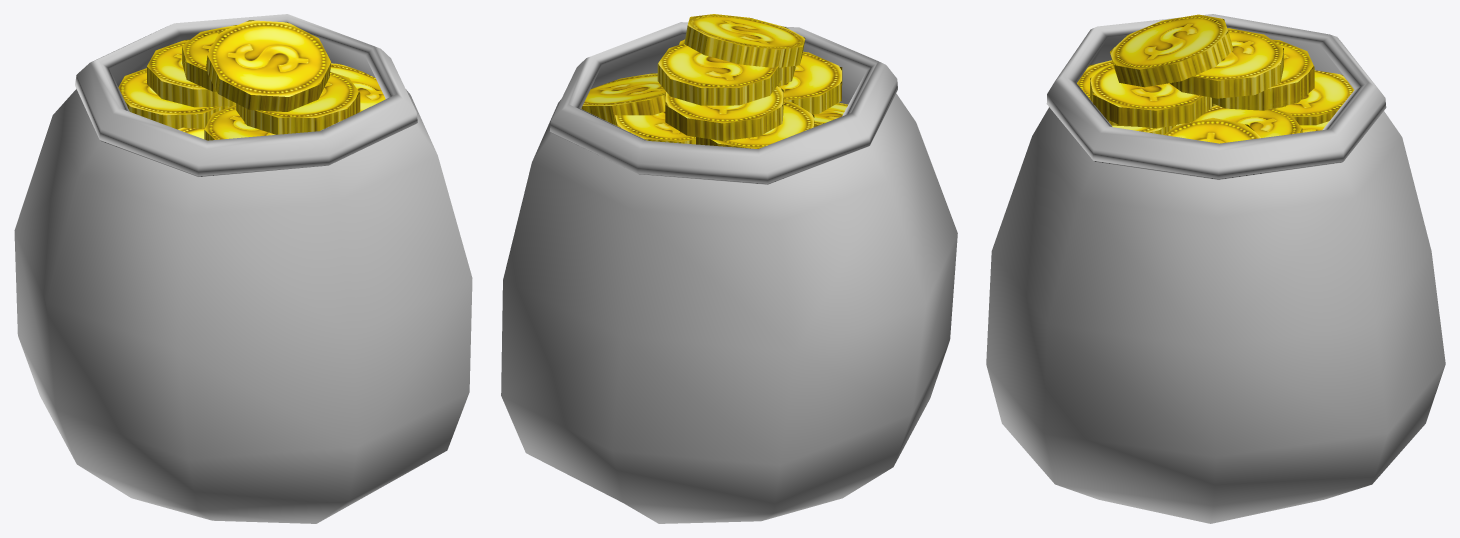
Rendered from sack_coin_0011.fbx.
3 renders of one model, left to right at view 1: azimuth 30°, elevation 25°; view 2: azimuth 150°, elevation 25°; view 3: azimuth 270°, elevation 25°, orthographic.
Visible parts, largest first — view 1: sack_coin_0011; view 2: sack_coin_0011; view 3: sack_coin_0011.
Part boxes in pixels (x1,y1,x2,y2): sack_coin_0011: [14, 14, 472, 523]; sack_coin_0011: [501, 14, 957, 523]; sack_coin_0011: [986, 14, 1445, 523].
Size of the model in its own units: 15.57 by 17.31 by 15.62.
